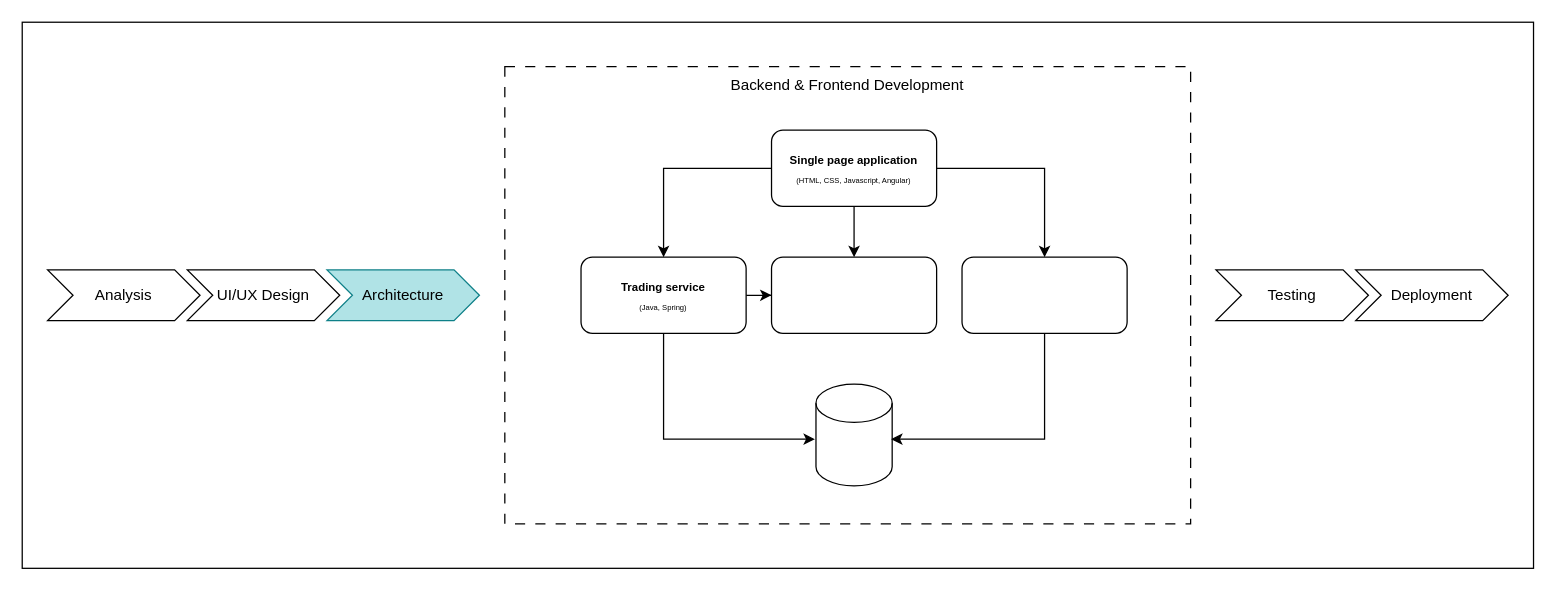
Image size: 1556x591. Some labels were removed from this diagram. The shapes that lost their labels are listed below. From the top down, each one's centre as x and y in pixels, then its label:
At (x=853, y=294): "Quote service (Java, Spring)".
At (x=1044, y=294): "User administration service (Java, Spring)".
At (x=853, y=434): "Database (PostgreSQL)".
